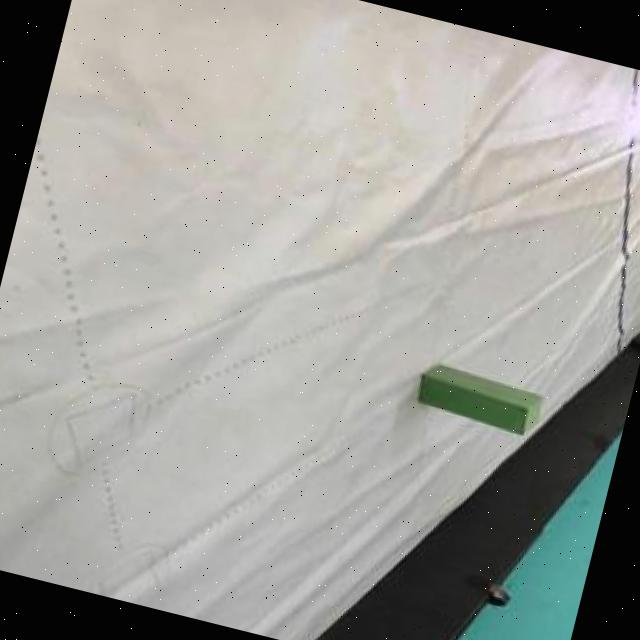greenbox: (408, 359, 550, 442)
